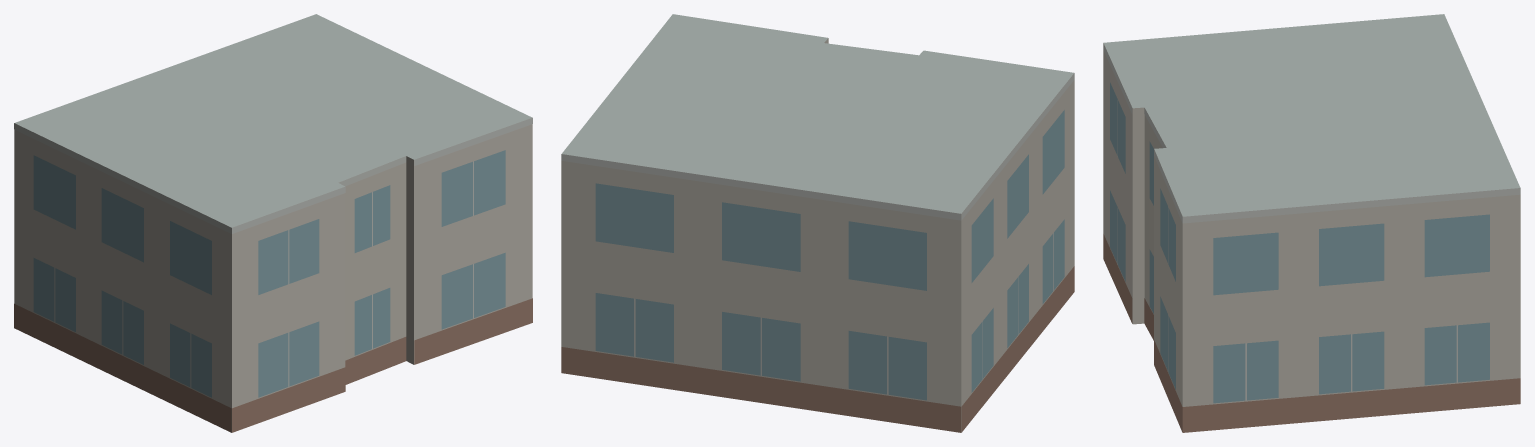
Rendered from survey-upis-32493267.glb.
The picture shows the model from 3 angles, left to right: view 1: azimuth 30°, elevation 25°; view 2: azimuth 150°, elevation 25°; view 3: azimuth 270°, elevation 25°; orthographic projection. The views are drawn at different scales.
Parts seen in each view (by area): view 1: survey-upis-32493267.tmp; view 2: survey-upis-32493267.tmp; view 3: survey-upis-32493267.tmp.
Boxes of the visible parts, <box> form: survey-upis-32493267.tmp: <box>14,14,532,432</box>; survey-upis-32493267.tmp: <box>561,14,1074,432</box>; survey-upis-32493267.tmp: <box>1103,14,1520,432</box>.
Size of the model in its own units: 15.71 by 7.8 by 13.66.
